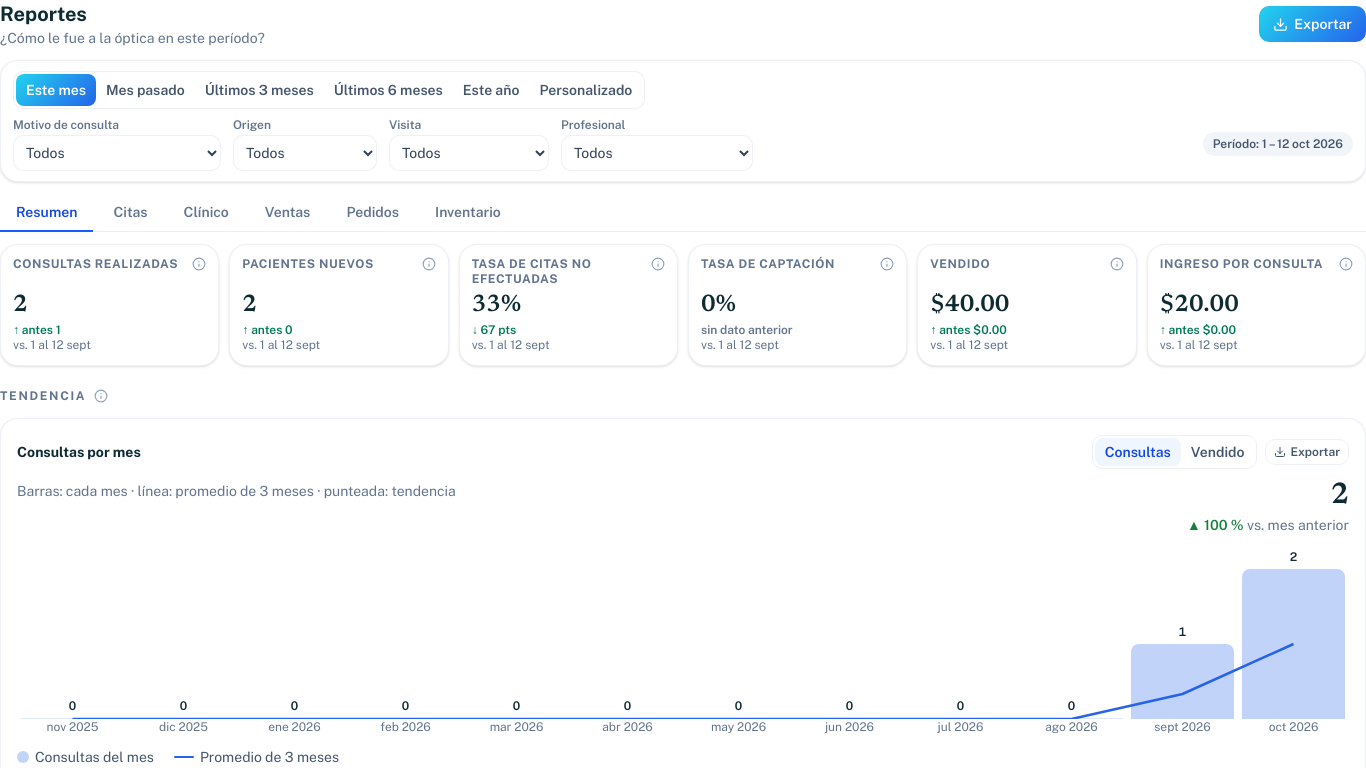
Reportes: la pestaña Inventario › cada número abre su lista en la ventana estándar, con el mismo número y tantas filas como dice
Click the tab "Inventario". click: (468, 213)
box: x1=419 y1=194 x2=517 y2=232
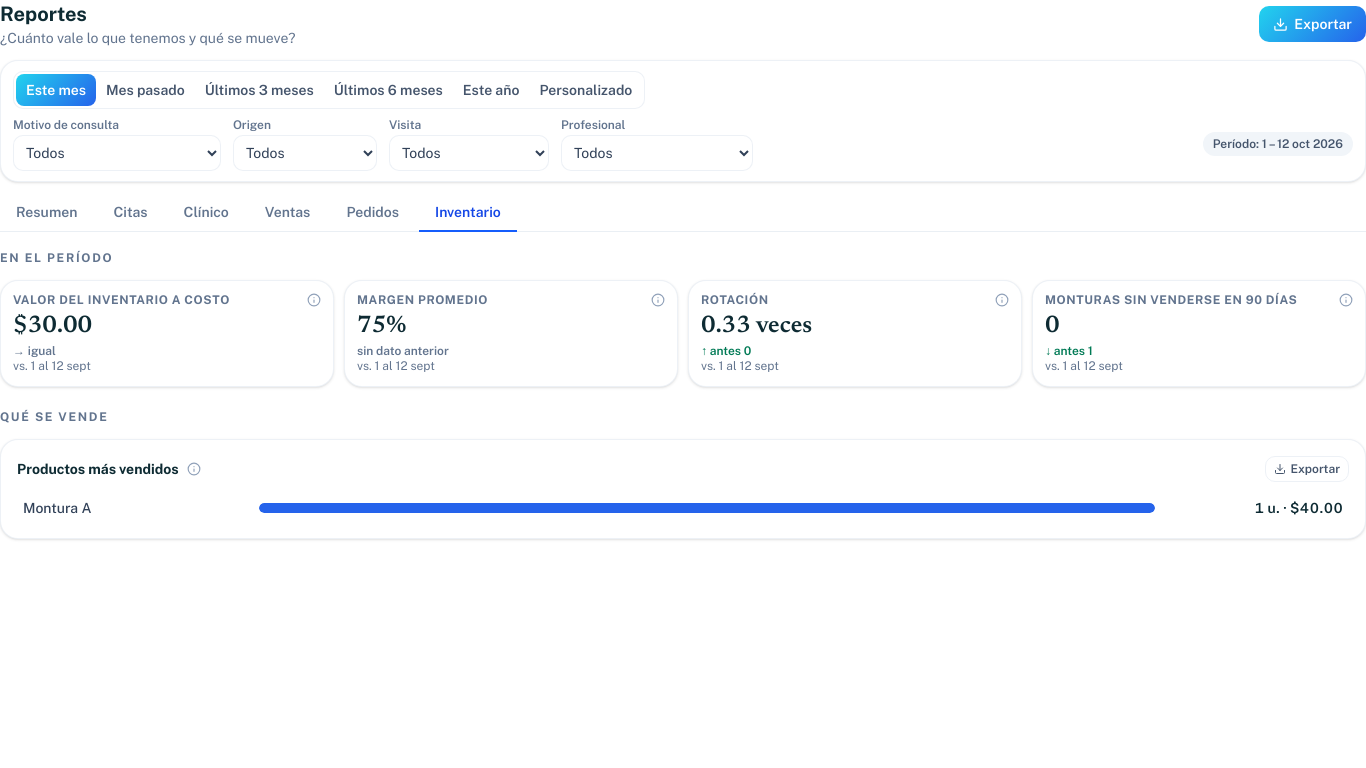
Click the button with aria-label "Valor del inventario a costo: ". click: (53, 326)
box: x1=13 y1=314 x2=321 y2=374
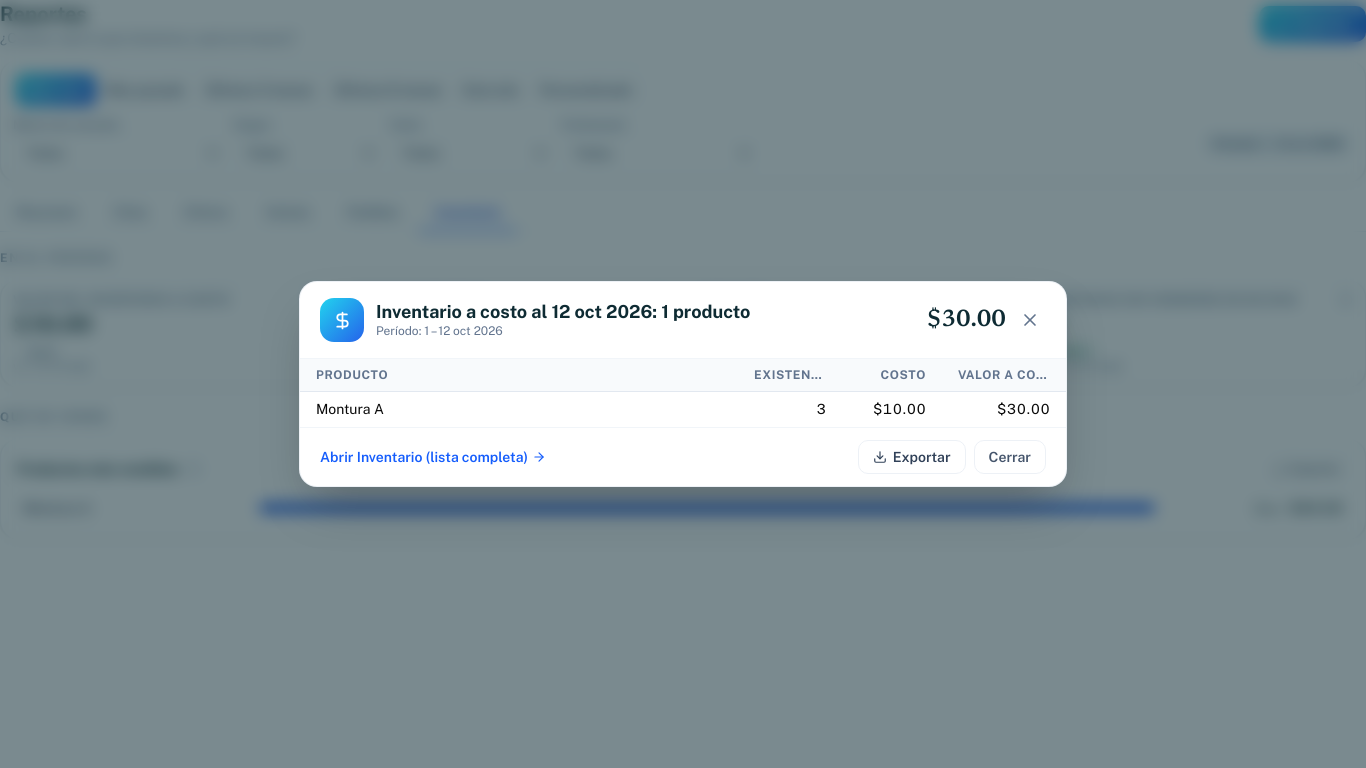
Expected: the text "$30.00" is shown, x1=927 y1=308 x2=1006 y2=332
Expected: the number of rows is 2, x1=300 y1=359 x2=1066 y2=391; x1=300 y1=391 x2=1066 y2=427
Expected: the button "Abrir Inventario (lista completa)" is shown, x1=320 y1=447 x2=546 y2=467
Press Escape in the dialog, box x1=299 y1=281 x2=1067 y2=487
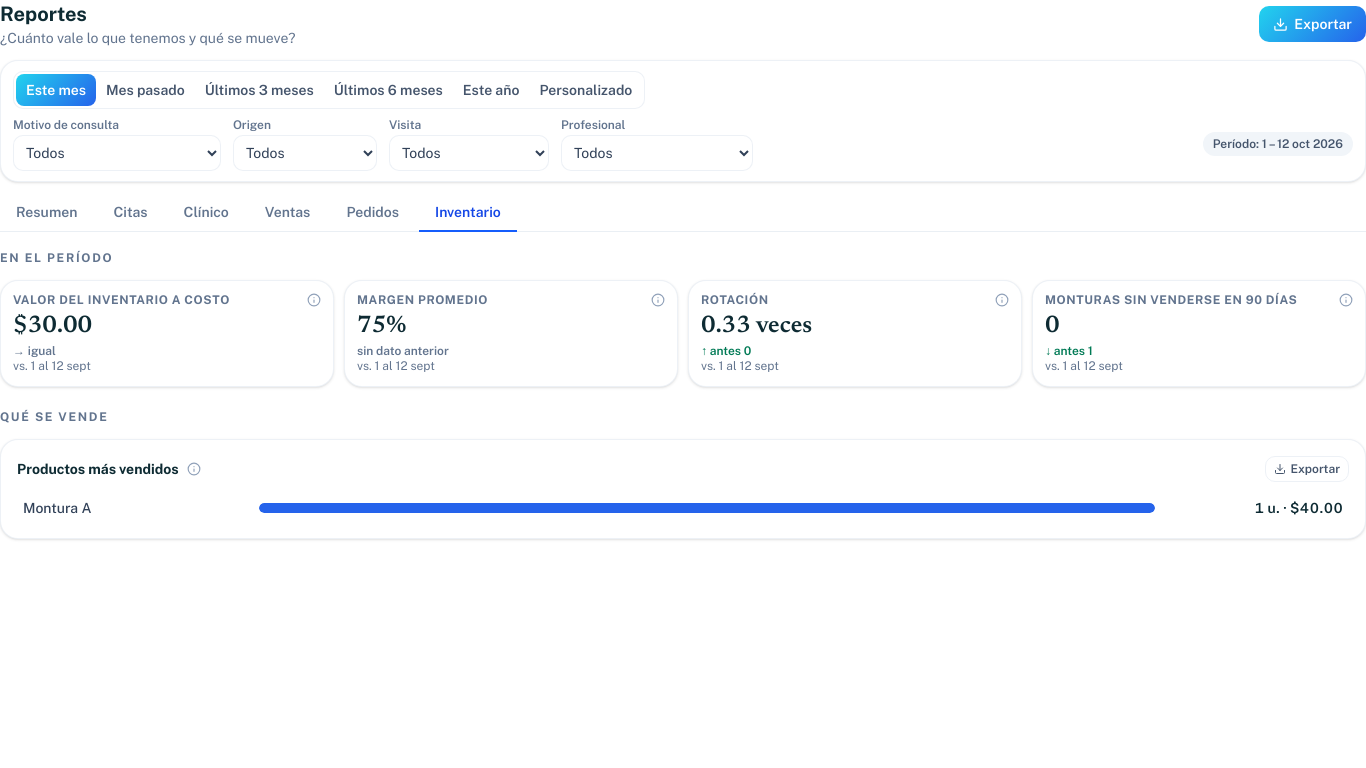
Click the button with aria-label "Margen promedio: ". click: (382, 326)
box: x1=357 y1=314 x2=665 y2=374
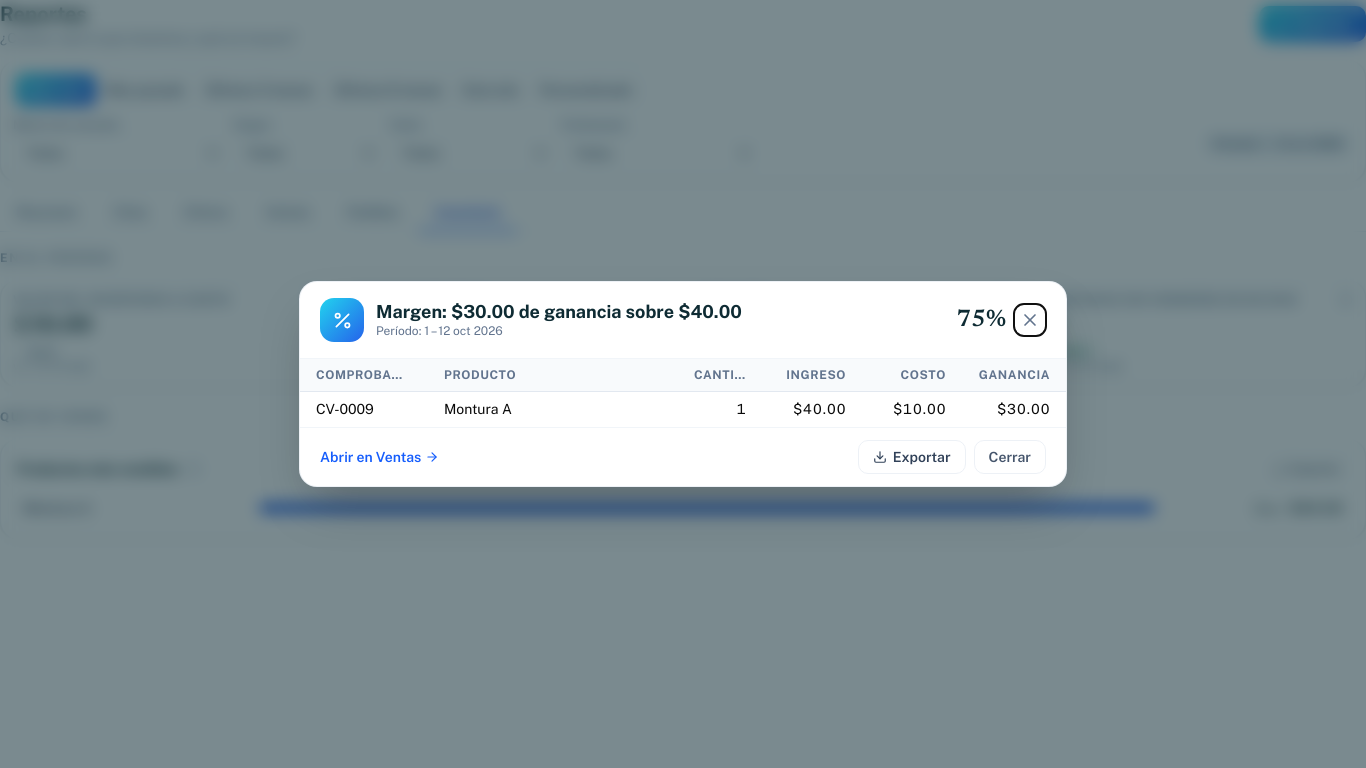
Expected: the text "75%" is shown, x1=957 y1=308 x2=1006 y2=332
Expected: the number of rows is 2, x1=300 y1=359 x2=1066 y2=391; x1=300 y1=391 x2=1066 y2=427
Expected: the column heading "Ganancia" is shown, x1=962 y1=359 x2=1066 y2=391
